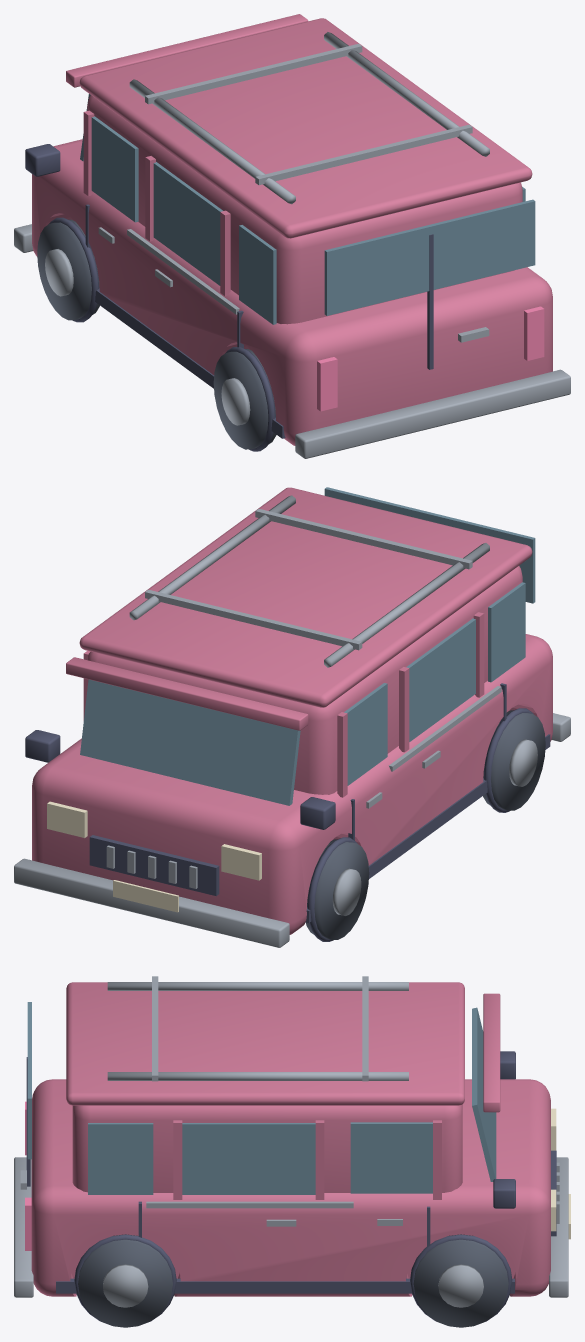
The model's file is FestivalCampVan.fbx.
3 renders of one model, top to bottom at view 1: azimuth 30°, elevation 25°; view 2: azimuth 150°, elevation 25°; view 3: azimuth 270°, elevation 25°, orthographic. The views are drawn at different scales.
Visible parts, largest first — view 1: FestivalCampVan PaintRose__PaintRose, FestivalCampVan AutoGlass__AutoGlass, FestivalCampVan Metal__Metal, FestivalCampVan Rubber__Rubber, FestivalCampVan Dark__Dark, FestivalCampVan Rose__Rose; view 2: FestivalCampVan PaintRose__PaintRose, FestivalCampVan AutoGlass__AutoGlass, FestivalCampVan Metal__Metal, FestivalCampVan Dark__Dark, FestivalCampVan Rubber__Rubber, FestivalCampVan Cream__Cream; view 3: FestivalCampVan PaintRose__PaintRose, FestivalCampVan AutoGlass__AutoGlass, FestivalCampVan Metal__Metal, FestivalCampVan Rubber__Rubber, FestivalCampVan Dark__Dark, FestivalCampVan Cream__Cream, FestivalCampVan Rose__Rose.
Part boxes in pixels (x1,y1,x2,y2): FestivalCampVan PaintRose__PaintRose: (32,14,552,445); FestivalCampVan AutoGlass__AutoGlass: (80,94,535,324); FestivalCampVan Metal__Metal: (14,32,570,458); FestivalCampVan Rubber__Rubber: (37,219,276,449); FestivalCampVan Dark__Dark: (25,144,433,451); FestivalCampVan Rose__Rose: (317,306,544,411); FestivalCampVan PaintRose__PaintRose: (32,487,552,934); FestivalCampVan AutoGlass__AutoGlass: (80,487,535,805); FestivalCampVan Metal__Metal: (14,495,570,947); FestivalCampVan Dark__Dark: (25,683,550,941); FestivalCampVan Rubber__Rubber: (306,710,545,939); FestivalCampVan Cream__Cream: (47,801,261,912); FestivalCampVan PaintRose__PaintRose: (31,982,550,1296); FestivalCampVan AutoGlass__AutoGlass: (27,1002,496,1194); FestivalCampVan Metal__Metal: (14,976,568,1307); FestivalCampVan Rubber__Rubber: (78,1234,508,1327); FestivalCampVan Dark__Dark: (26,1051,556,1323); FestivalCampVan Cream__Cream: (551,1108,570,1239); FestivalCampVan Rose__Rose: (25,1101,31,1250).
Size of the model in its own units: 334 by 268 by 564.
